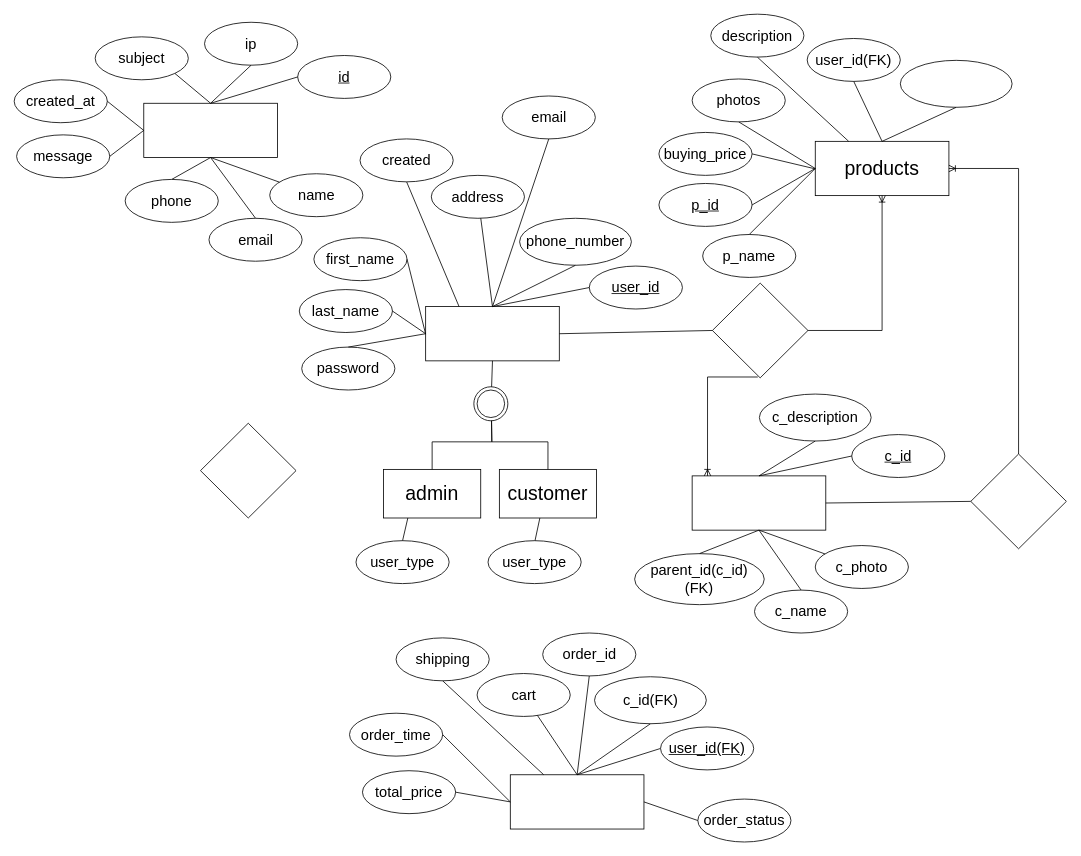
This 1081x856 diagram has some shape labels left out. The shapes that lost their labels are listed below. From the top down, each one's centre as x and y in pixels, then its label:
point 956,83: selling_price
point 210,130: inquiries
point 492,333: users
point 760,330: Manages
point 248,470: Places
point 758,502: categories
point 1018,501: Belongs To
point 576,801: orders
